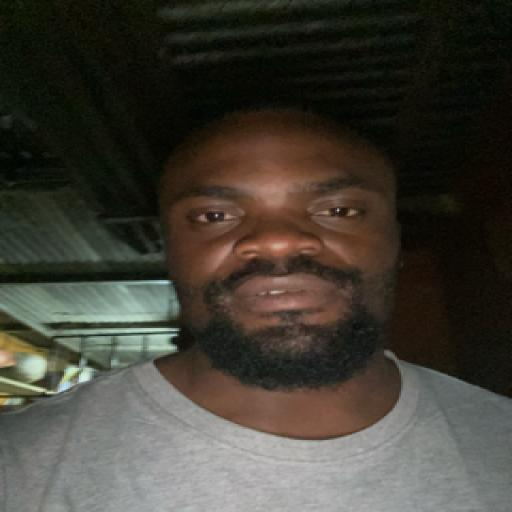JEANLUC: (160, 104, 418, 418)
